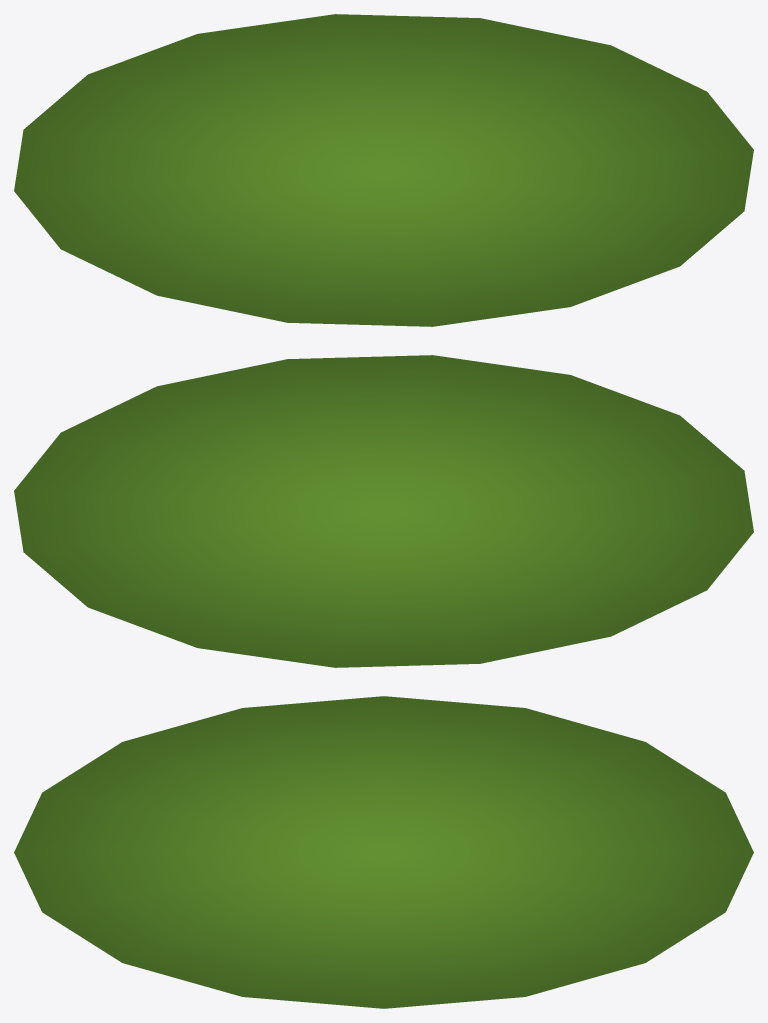
File: CauldronFillPlane1.fbx
3 views of the same model, one above another, from view 1: azimuth 30°, elevation 25°; view 2: azimuth 150°, elevation 25°; view 3: azimuth 270°, elevation 25° (orthographic).
Parts seen in each view (by area): view 1: CauldronFillPlane1; view 2: CauldronFillPlane1; view 3: CauldronFillPlane1.
Boxes of the visible parts, x1,y1,x2,y2 form: CauldronFillPlane1: (14, 14, 753, 326); CauldronFillPlane1: (14, 355, 753, 667); CauldronFillPlane1: (14, 696, 753, 1008).
Bounding box in the file's own units: 47.4 × 2.27e-13 × 47.4.
